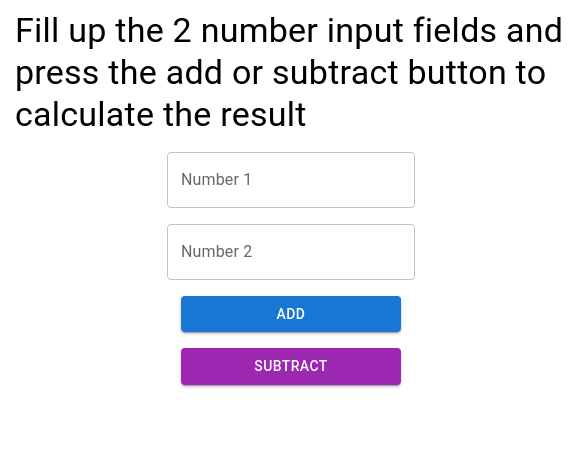
it: Calculator Application › should subtract two numbers
Step 1. Type "1" into the number field labelled "Number 1" → (291, 180), box left=167, top=152, right=415, bottom=208
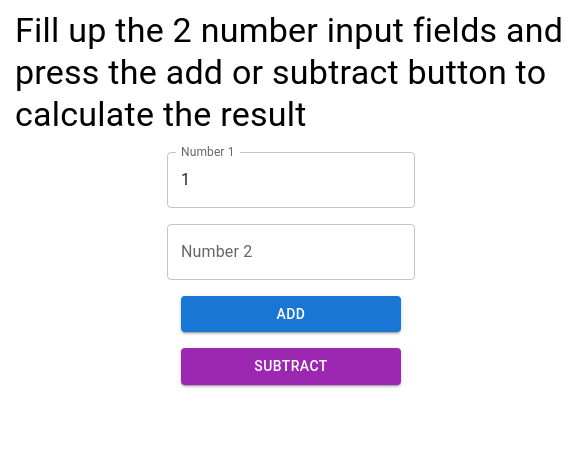
Step 2. Type "-999999" into the number field labelled "Number 2" → (291, 252), box left=167, top=224, right=415, bottom=280
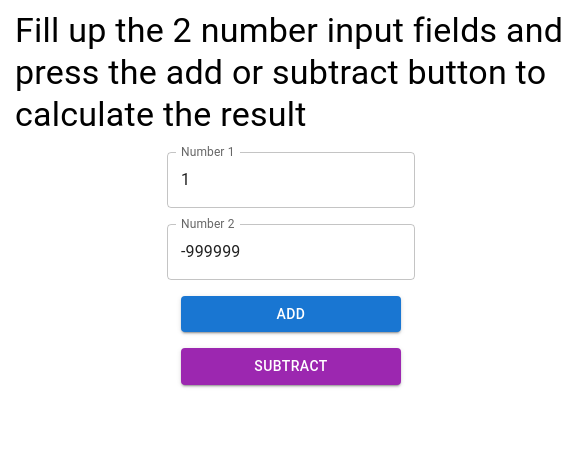
Step 3. Click the button "Subtract" → (291, 367), box left=181, top=348, right=401, bottom=385
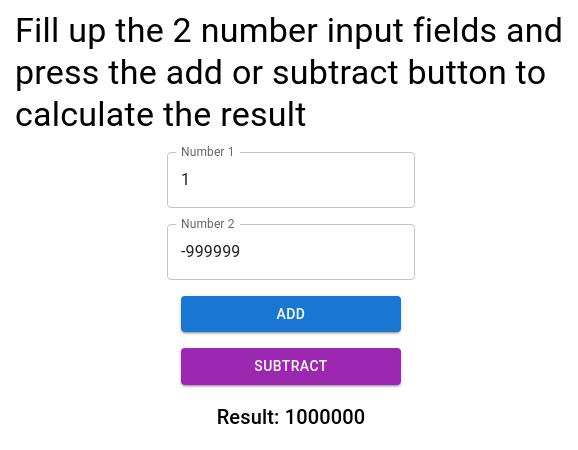
Check: the heading "Result: 1000000" is shown, box left=217, top=401, right=365, bottom=433
